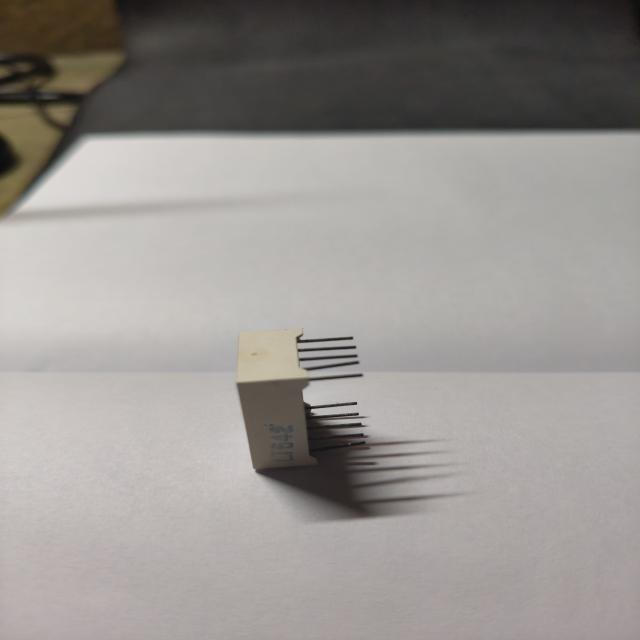sevensegment: (223, 317, 386, 478)
